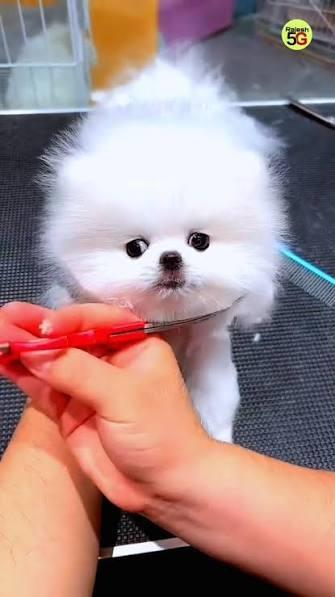puppy-dog: (36, 49, 290, 445)
